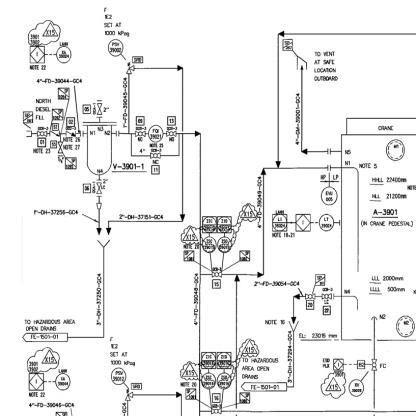LMI: (106, 36, 124, 58), (320, 186, 338, 206), (318, 212, 335, 232), (110, 366, 127, 386), (348, 378, 365, 398), (55, 46, 73, 64), (148, 123, 164, 143), (201, 372, 217, 390), (216, 372, 232, 390), (55, 372, 71, 390), (202, 236, 217, 254), (217, 237, 232, 253)
TAG: (216, 351, 233, 370), (217, 214, 232, 234), (272, 214, 288, 232), (201, 352, 217, 370), (202, 215, 217, 234)
